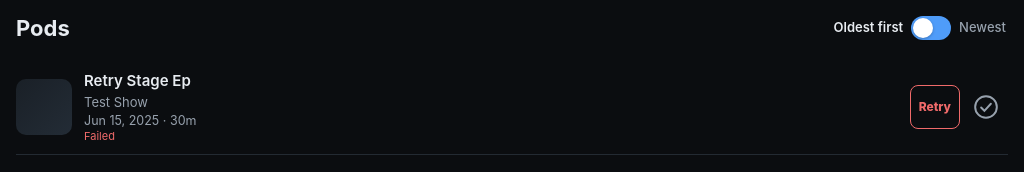
Test: RecentView › uses the returned stage immediately after retry instead of generic Preparing
Click the button with aria-label "Retry ad-free preparation". click: [935, 107]
box: x1=910 y1=85 x2=960 y2=129
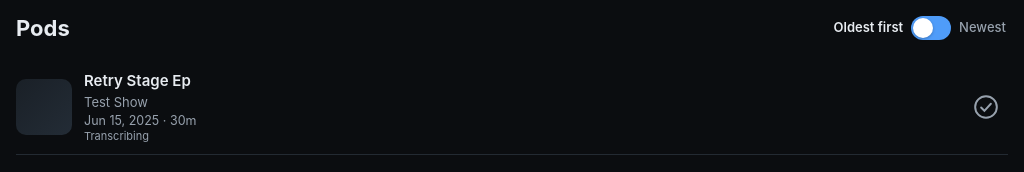
Now the text "Transcribing" is shown, box x1=84 y1=131 x2=149 y2=142
